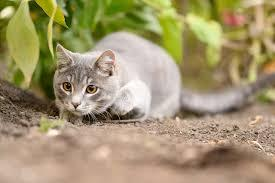Cat: (49, 40, 123, 116)
